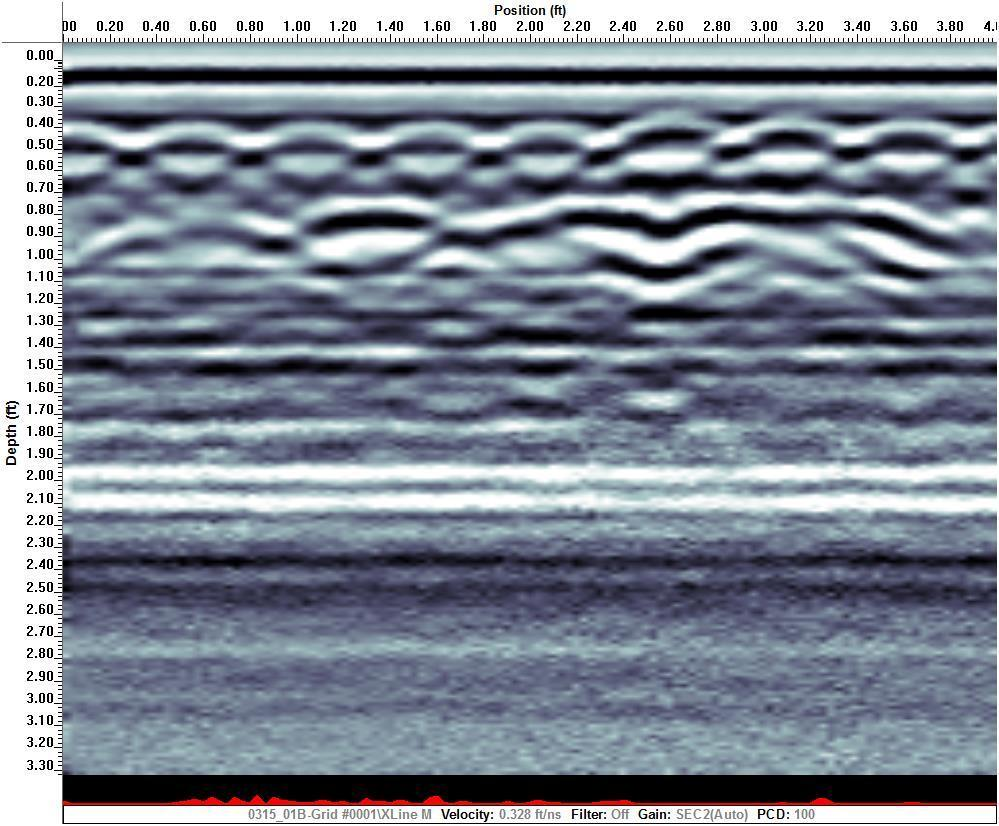hyperbola: (740, 111, 847, 154), (619, 104, 726, 147), (499, 111, 606, 154), (379, 113, 486, 156), (257, 115, 364, 158), (142, 113, 249, 156)
